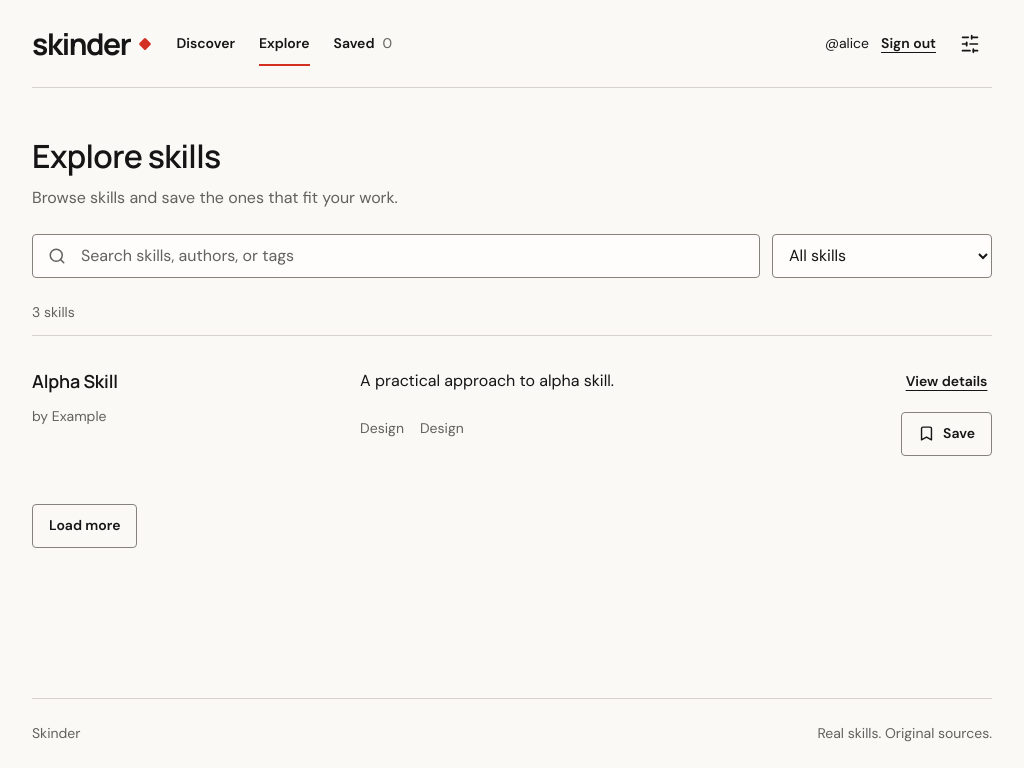
Test: skill discovery › ignores an old next page after the search changes, even if it ignores cancellation
The width and height of the screenshot is (1024, 768).
Click the button "Load more" at (85, 526), box x1=32 y1=504 x2=138 y2=548
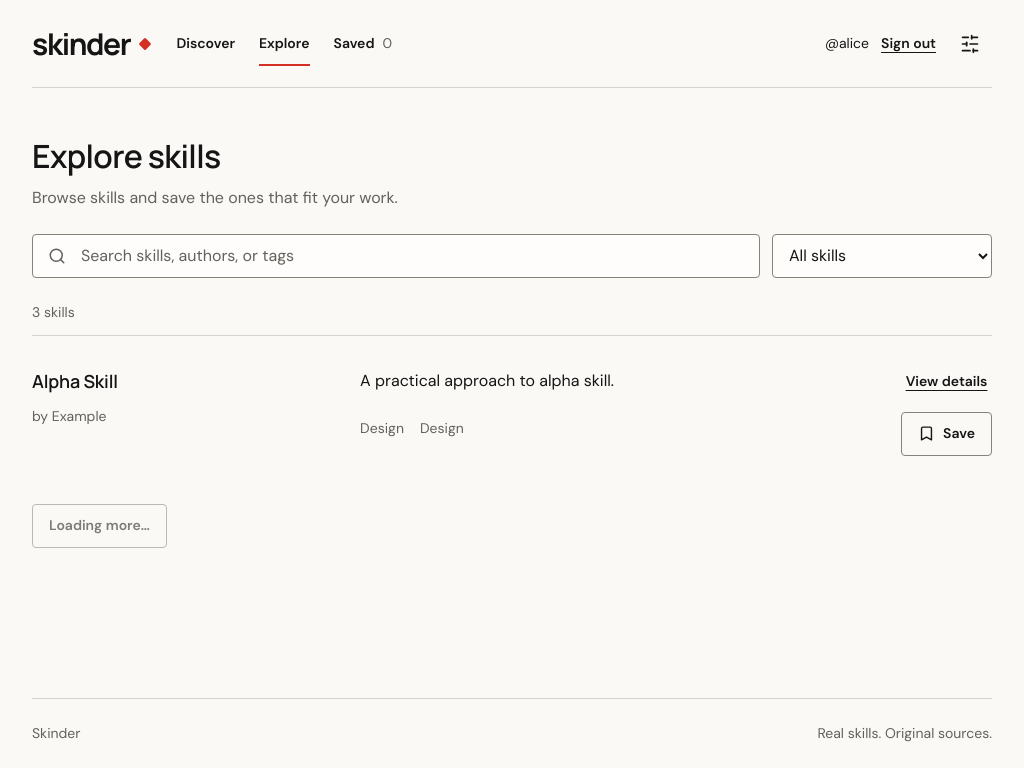
Type "Beta" into the field labelled "Search skills" at (396, 256), box x1=32 y1=234 x2=760 y2=278
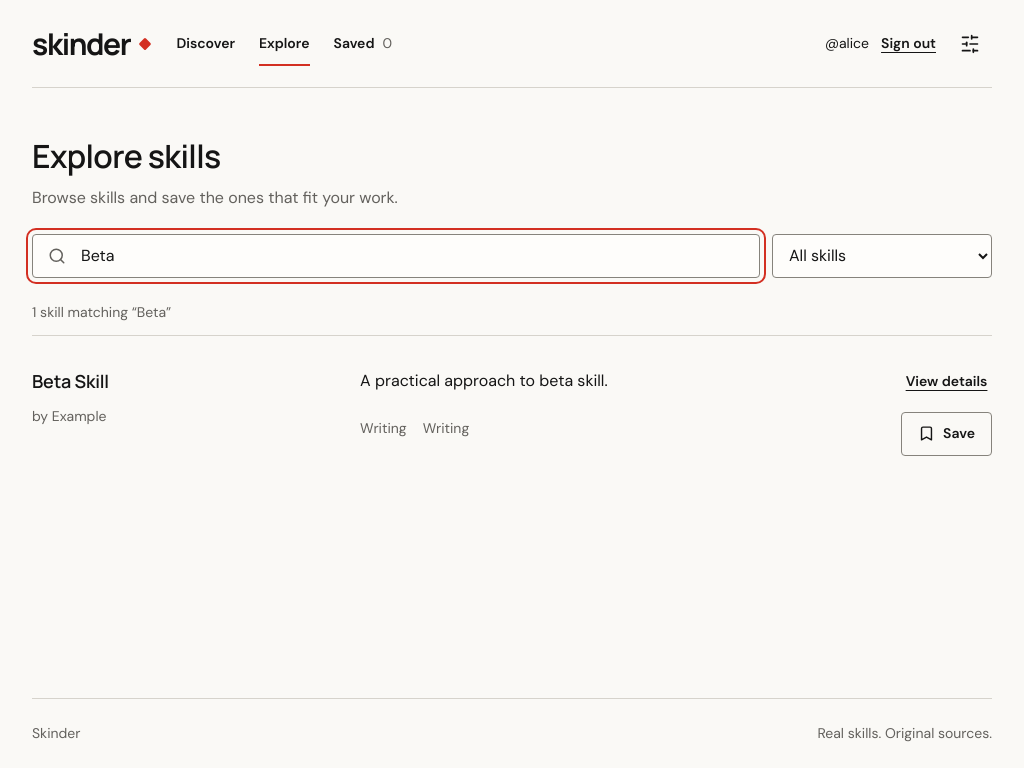
Expected: the heading "Beta Skill" is shown, x1=32 y1=360 x2=109 y2=404
Expected: the button "Alpha Skill" is gone
Expected: the text "1 skill matching “Beta”" is shown, x1=32 y1=303 x2=171 y2=321
